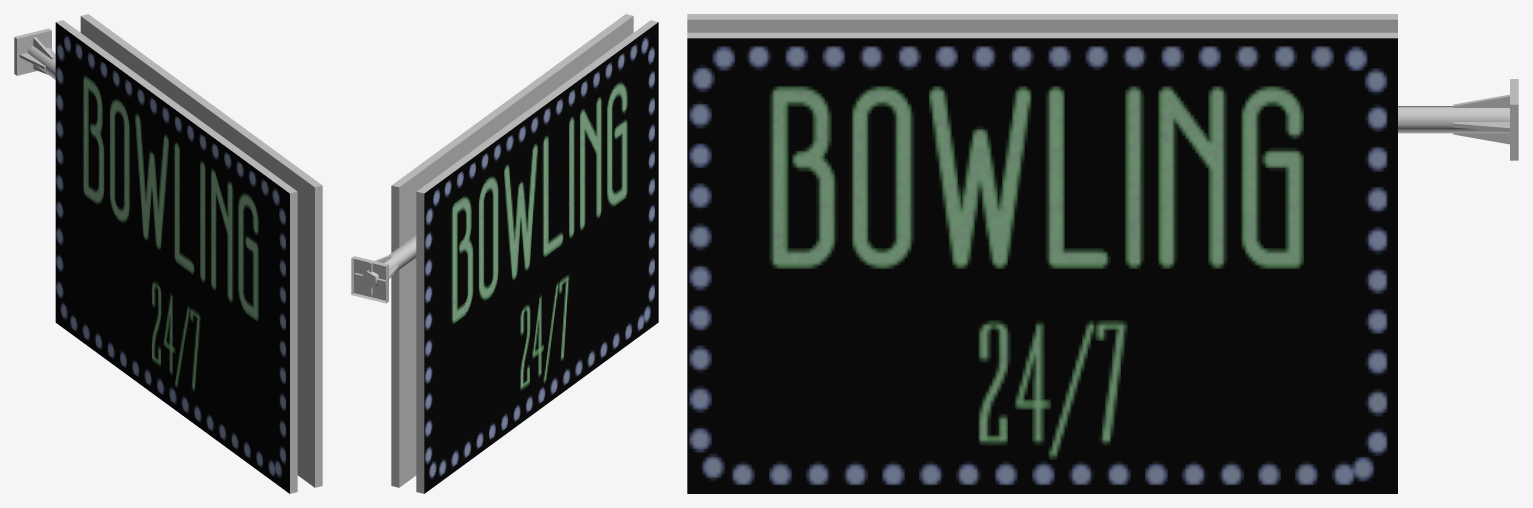
3 renders of one model, left to right at view 1: azimuth 30°, elevation 25°; view 2: azimuth 150°, elevation 25°; view 3: azimuth 270°, elevation 25°, orthographic. The views are drawn at different scales.
Parts seen in each view (by area): view 1: bb_01_b; view 2: bb_01_b; view 3: bb_01_b.
Boxes of the visible parts, x1,y1,x2,y2 form: bb_01_b: (14, 14, 322, 493); bb_01_b: (351, 14, 658, 493); bb_01_b: (687, 14, 1518, 493).
Bounding box in the file's own units: 0.2364 × 3.23 × 1.95.
